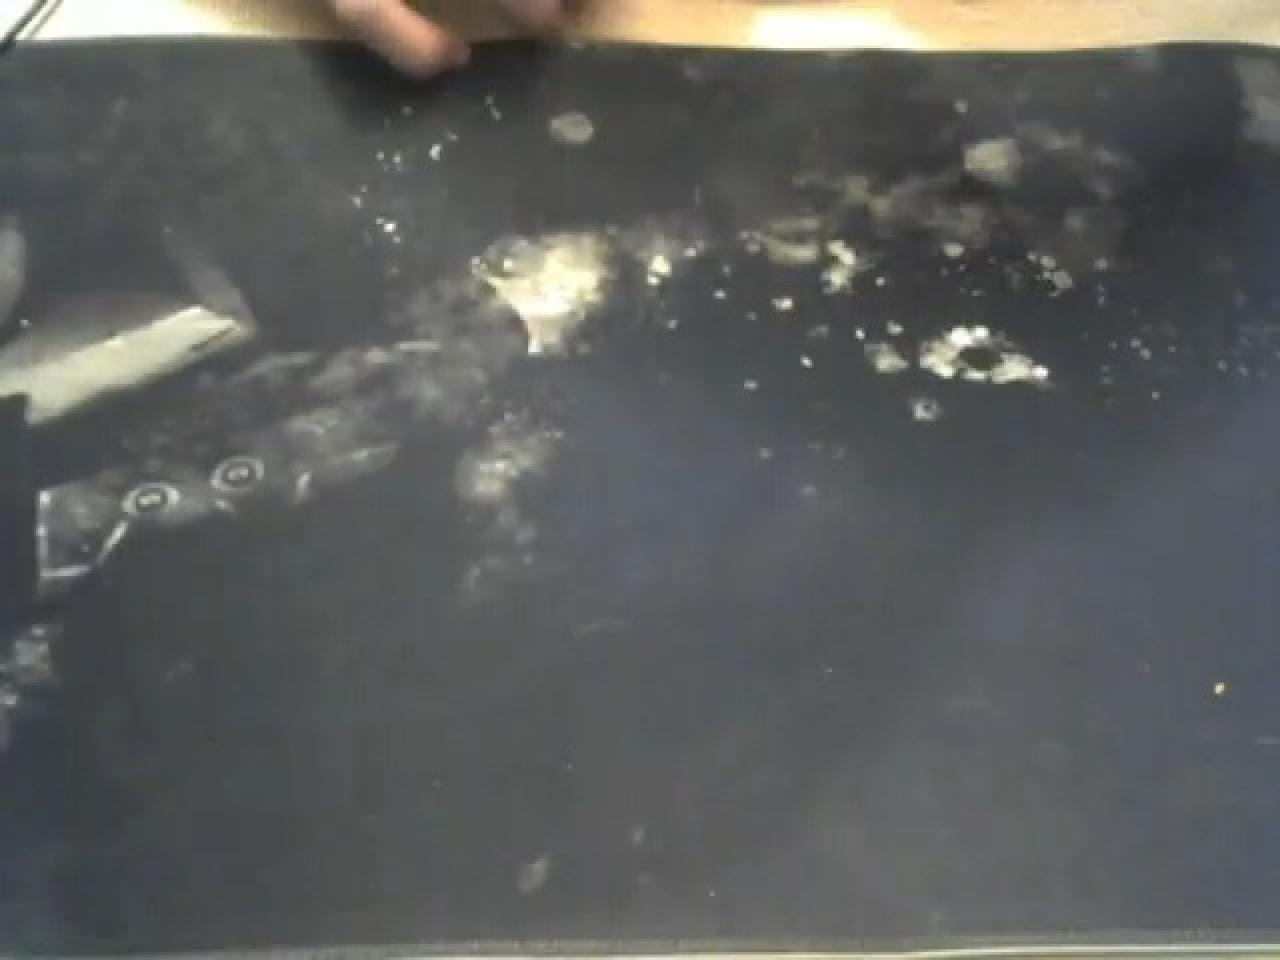10leva: (2, 27, 1276, 949)
